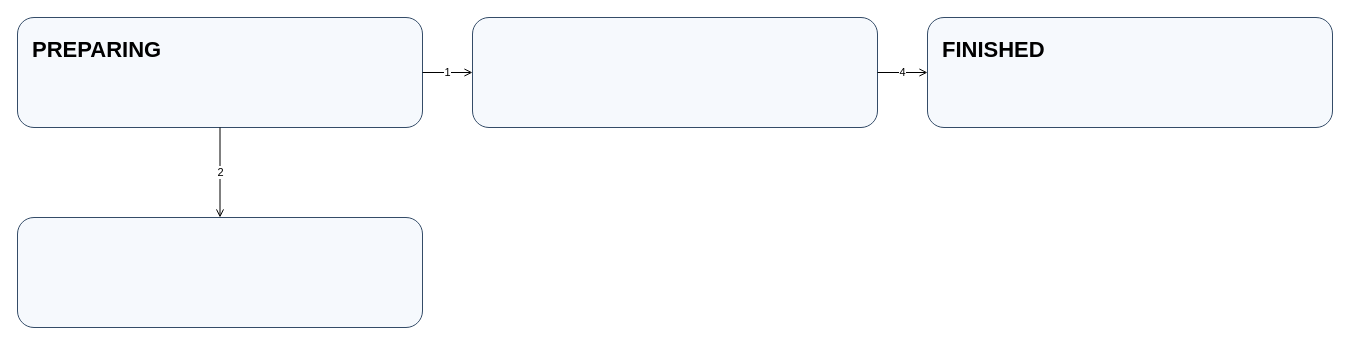
Some shapes in this 1350 by 345 pixel diagram are drawn without their labels. The box of each missing label's shape, as (x1, y1, x2, y2) in pixels:
CANCELLED: (16, 216, 422, 328)
PLAYING: (472, 16, 878, 128)
